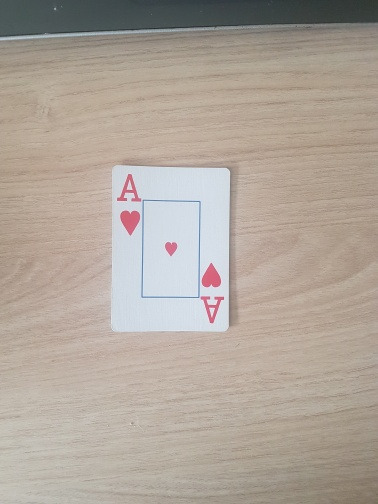ace: (112, 168, 228, 332)
